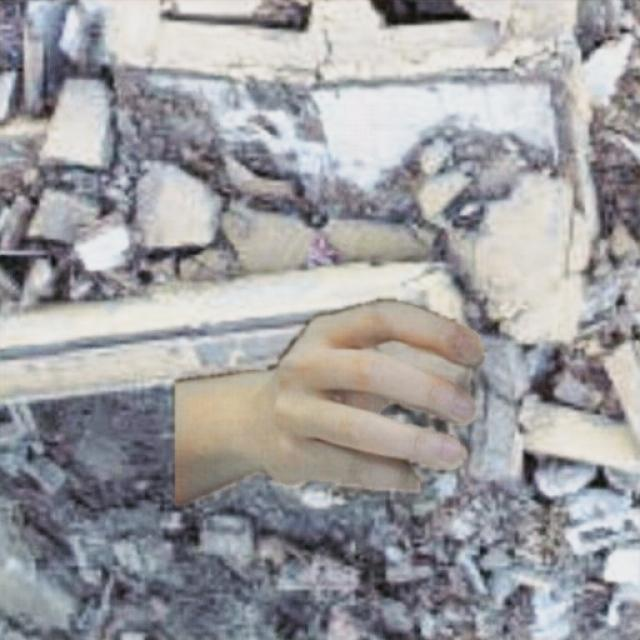Person in Rubble: (175, 299, 486, 505)
